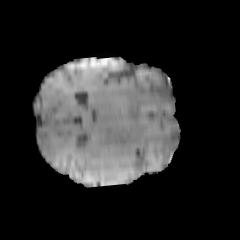glioma: (71, 125, 147, 184)
